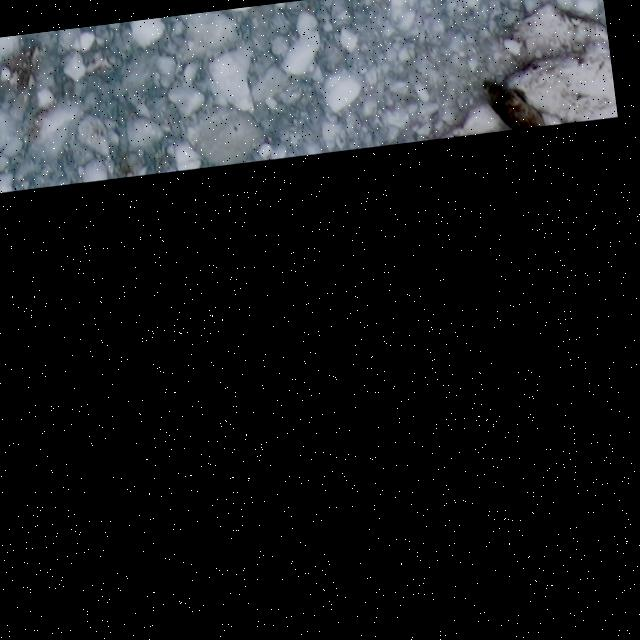seal: (477, 69, 551, 133)
